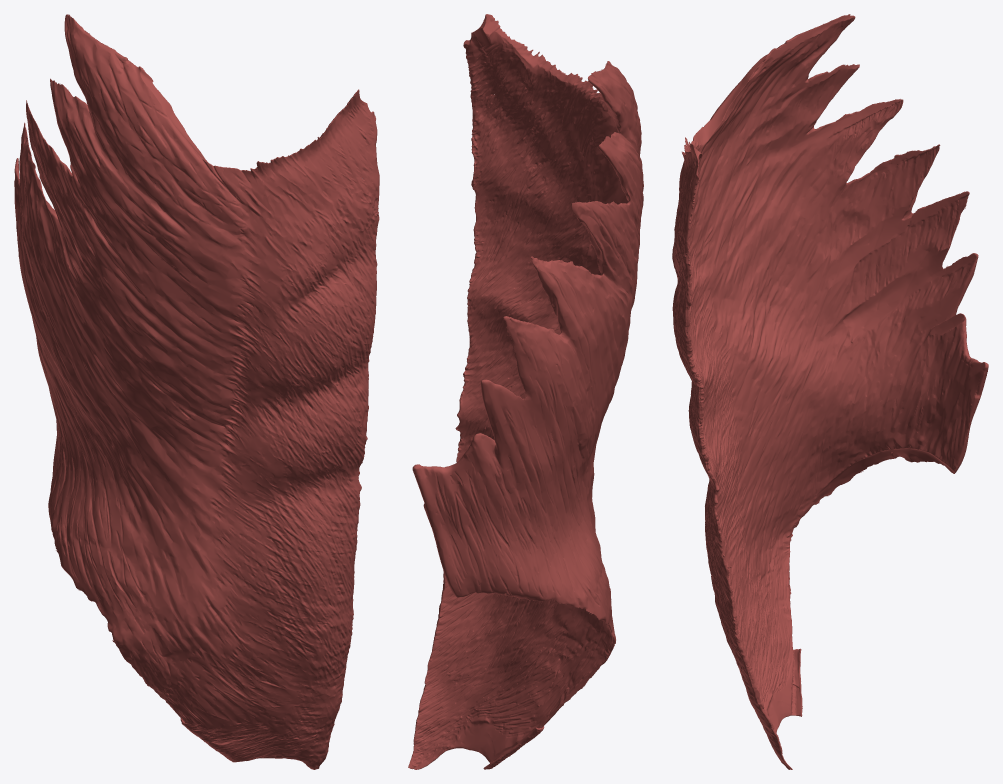
Rendered from FMA13336.glb.
3 views of the same model, side by side, from view 1: azimuth 30°, elevation 25°; view 2: azimuth 150°, elevation 25°; view 3: azimuth 270°, elevation 25° (orthographic). The views are drawn at different scales.
Visible parts, largest first — view 1: FMA13336; view 2: FMA13336; view 3: FMA13336.
Part boxes in pixels (box(x1,y1,x2,y2)): FMA13336: box(14, 14, 379, 769); FMA13336: box(408, 14, 643, 769); FMA13336: box(672, 14, 988, 769).
Size of the model in its own units: 0.1363 by 0.4188 by 0.18.
